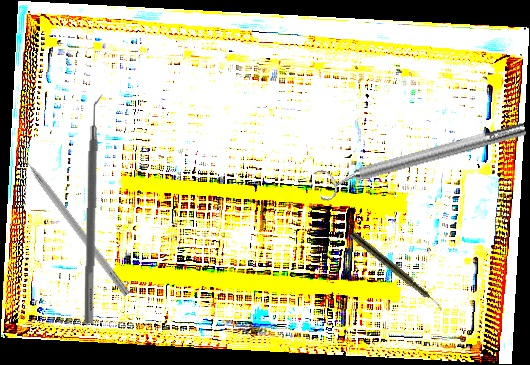Chopper: (13, 139, 139, 297)
Fixation Ring: (313, 113, 530, 203)
Handpiece: (348, 230, 446, 313)
Spatula Surgical: (83, 92, 107, 325)
